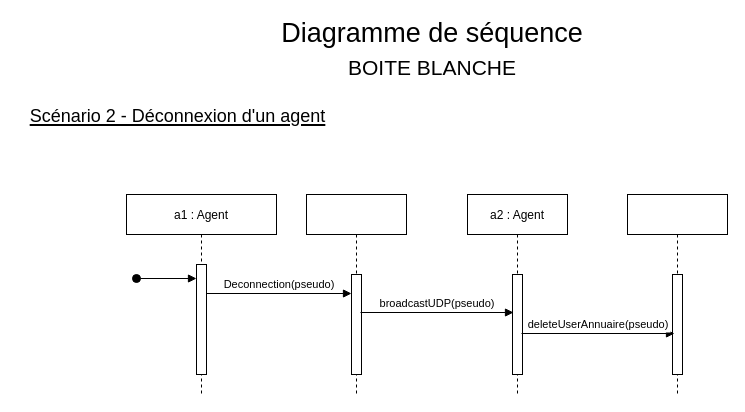
Image size: 745x412. Some labels were removed from this diagram. The shapes that lost their labels are listed below. From the top down, each one's box as (x1, y1, x2, y2) in pixels, then its label:
(306, 194, 406, 394): Network Manager
(626, 194, 728, 394): DB Manager
